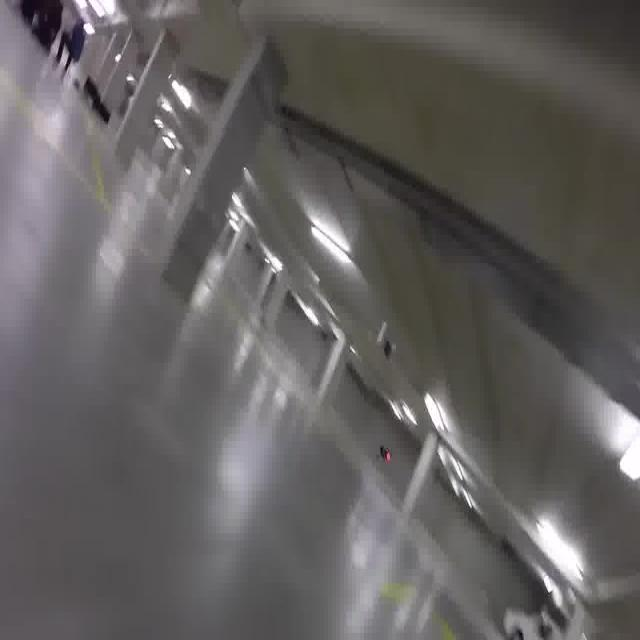drones: (375, 436, 393, 469)
